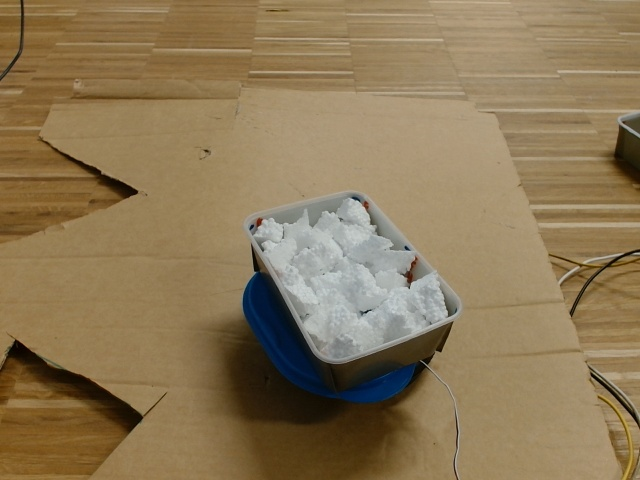Small_threequarter: (249, 190, 462, 359)
